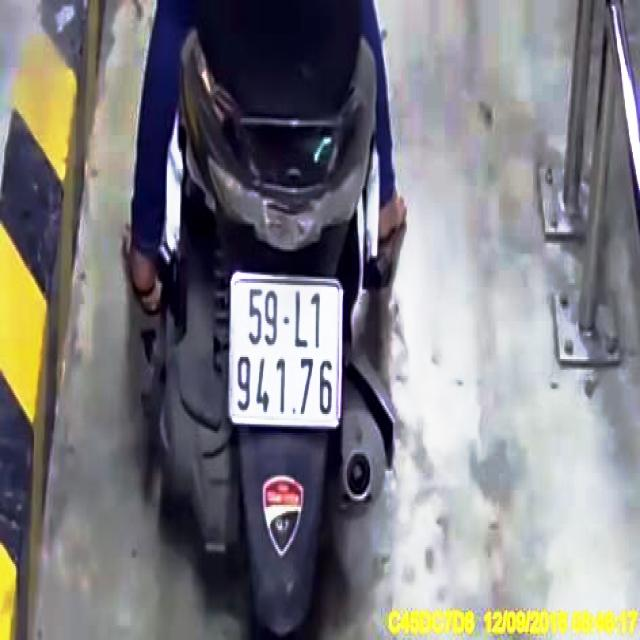license_plate: (233, 280, 343, 432)
